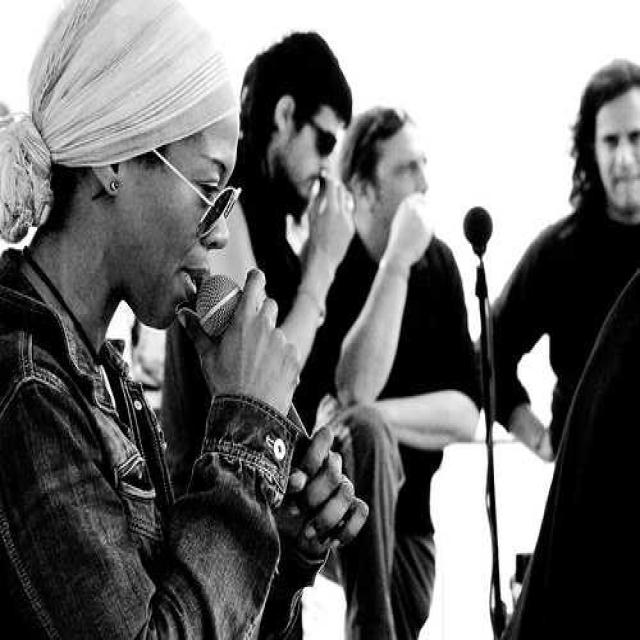microphone: (168, 234, 364, 518)
